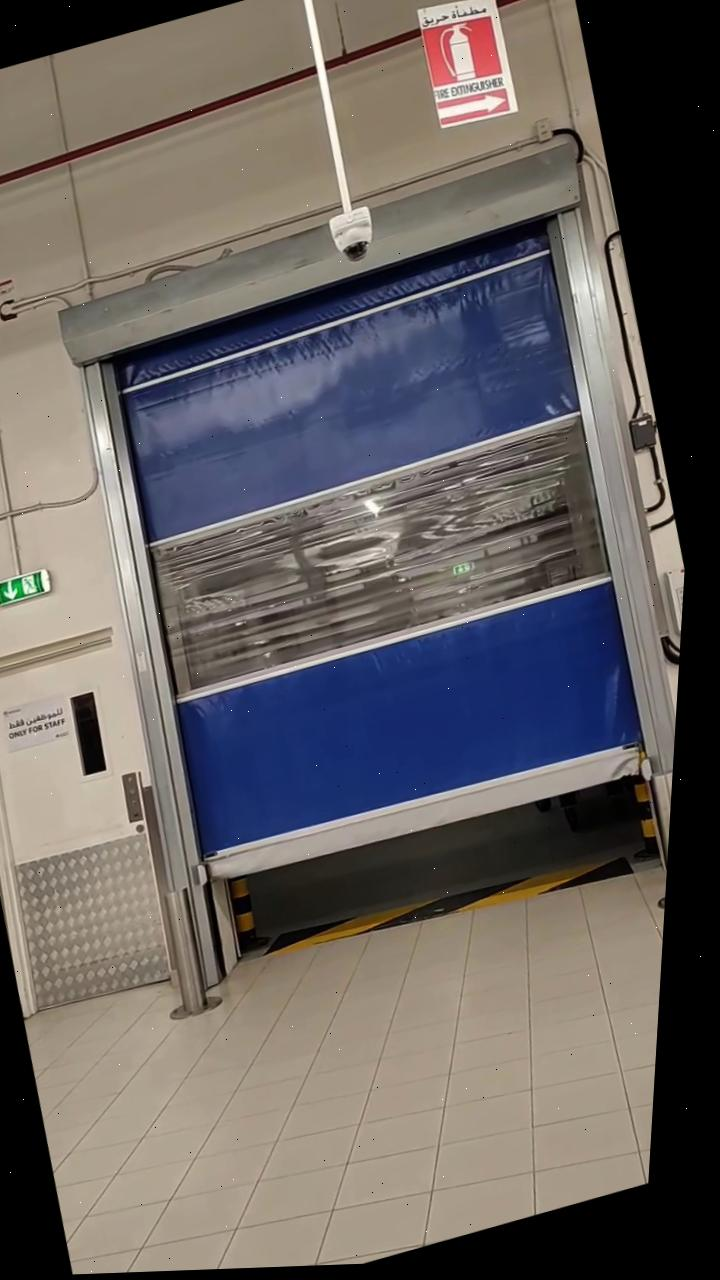Strip: (276, 831, 655, 984)
